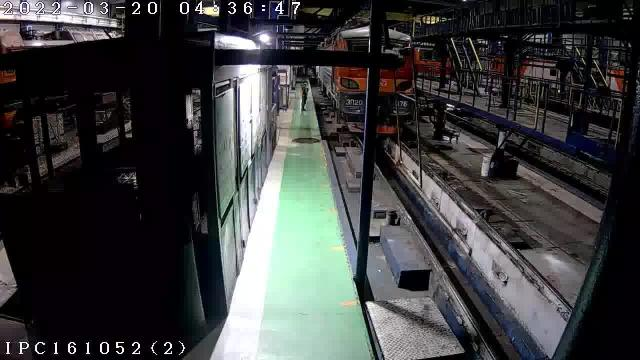person: (301, 84, 308, 110)
train: (377, 30, 413, 134)
